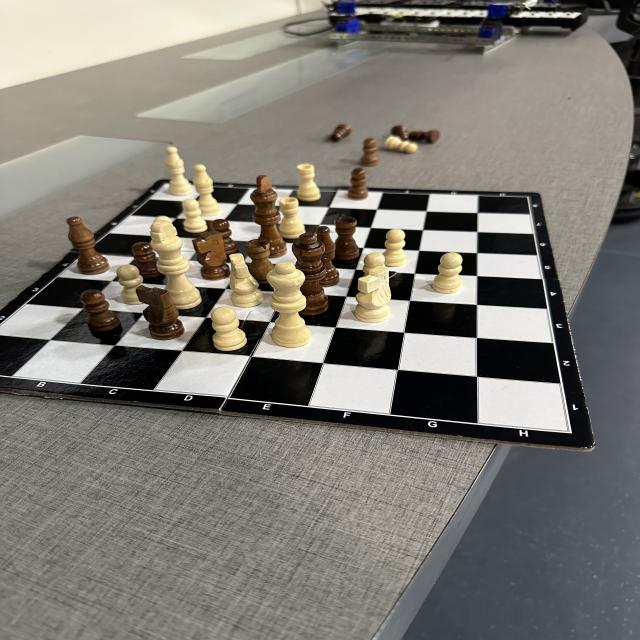Black-Bishop: (66, 217, 110, 276), (316, 226, 340, 287)
Black-King: (249, 175, 288, 258)
Black-Knight: (136, 285, 185, 340), (192, 231, 231, 281)
Black-Pawn: (80, 289, 121, 332), (132, 242, 160, 278), (211, 218, 238, 254), (347, 168, 369, 201), (360, 138, 380, 167), (330, 124, 353, 142), (390, 125, 409, 139)
Black-Queen: (291, 232, 330, 316)
Black-Rook: (244, 239, 273, 284), (335, 217, 360, 260)
White-Bishop: (164, 146, 194, 197), (194, 164, 221, 217)
White-King: (150, 220, 203, 310)
White-Knight: (355, 266, 392, 324), (230, 254, 264, 308)
White-Pawn: (210, 306, 248, 352), (432, 252, 462, 294), (116, 264, 144, 306), (382, 229, 407, 267), (182, 198, 208, 233), (383, 136, 418, 154), (362, 252, 385, 272), (153, 216, 173, 223)
White-Queen: (266, 262, 311, 348)
White-Rook: (278, 197, 306, 239), (296, 164, 321, 202)
